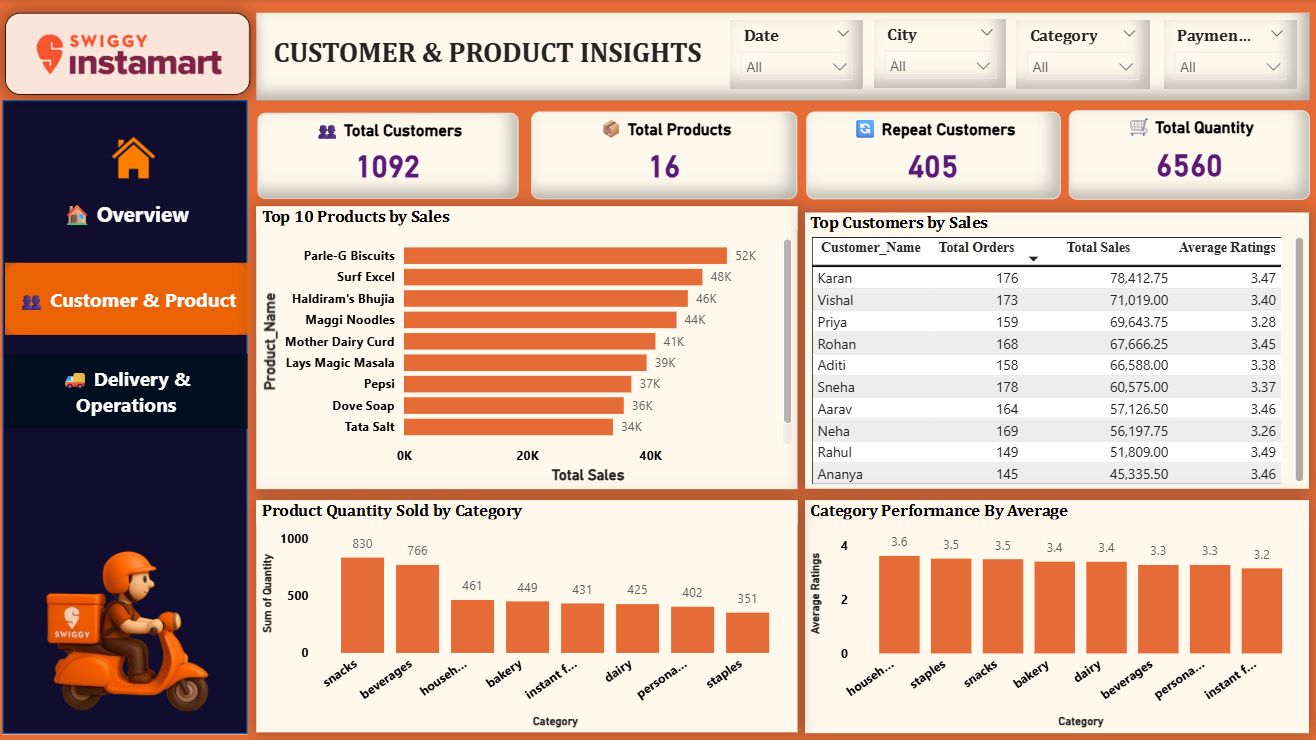

The page's visual inventory and layout, read from the dashboard file:
{"tool":"powerbi","page":{"name":"CUSTOMER & PRODUCT","canvas":[1280,720],"ordinal":2},"visuals":[{"type":"card","title":"👥 Total Customers","fields":{"Values":["Table.Total Customers"]},"box":[253.4,109.8,202.7,83.2],"z":0},{"type":"textbox","box":[253.2,12.7,1016.6,78.9],"z":1000},{"type":"shape","box":[9.4,97.5,236.9,611.9],"z":2000},{"type":"image","box":[101.5,130.8,64.8,45.2],"z":3000},{"type":"image","box":[0,473.1,260.6,246.6],"z":4000},{"type":"card","title":"🔄 Repeat Customers","fields":{"Values":["Table.Repeat Customers"]},"box":[670.8,108.6,193,84.5],"z":5000},{"type":"card","title":"📦 Total Products","fields":{"Values":["Table.Total Products"]},"box":[462.1,108.6,202.7,84.5],"z":6000},{"type":"card","title":"🛒 Total Quantity","fields":{"Values":["Table.Total Quantity"]},"box":[873.5,107.4,185.8,85.7],"z":7000},{"type":"actionButton","box":[9.8,183.4,236,51.4],"z":13000},{"type":"actionButton","box":[9.7,254.6,236.5,70],"z":14000},{"type":"actionButton","box":[9.8,342.4,236,72.1],"z":15000},{"type":"image","box":[10.1,13,236.6,79.4],"z":16000},{"type":"barChart","title":"Top 10 Products by Sales","fields":{"Category":["swiggy_instamartdb swiggy_instamart_final.Product_Name"],"Y":["Table.Total Sales"]},"box":[670.8,409,598.4,301.6],"z":17000},{"type":"card","title":"💰 Avg Order Value","fields":{"Values":["Table.Average Order Value"]},"box":[1070.1,106.2,199.1,86.9],"z":18000},{"type":"barChart","title":"Top 5 Cities by Customer Orders","fields":{"Category":["swiggy_instamartdb swiggy_instamart_final.City"],"Y":["Table.order"]},"box":[596,200.3,355.9,199.1],"z":19000},{"type":"tableEx","title":"Top Customers by Sales","fields":{"Values":["swiggy_instamartdb swiggy_instamart_final.Customer_Name","Table.Total Orders","Table.Total Sales","Table.Average Ratings"]},"box":[247.3,409,417.4,301.6],"z":20000},{"type":"columnChart","title":"Category Performance","fields":{"Category":["swiggy_instamartdb swiggy_instamart_final.Category"],"Y":["Sum(swiggy_instamartdb swiggy_instamart_final.Quantity)"]},"box":[252.5,199.8,334.2,198.5],"z":21000},{"type":"donutChart","title":"Payment Mode Preference","fields":{"Category":["swiggy_instamartdb swiggy_instamart_final.Payment_Mode"],"Y":["Table.order"]},"box":[959.1,200.3,310.1,199.1],"z":22000},{"type":"slicer","fields":{"Values":["DateTable.Date"]},"box":[717.1,17.3,128.4,66.4],"z":22001},{"type":"slicer","fields":{"Values":["swiggy_instamartdb swiggy_instamart_final.City"]},"box":[852.5,19.1,126,66.2],"z":22002},{"type":"slicer","fields":{"Values":["swiggy_instamartdb swiggy_instamart_final.Category"]},"box":[987.4,19.1,128.5,66.2],"z":22003},{"type":"slicer","fields":{"Values":["swiggy_instamartdb swiggy_instamart_final.Payment_Mode"]},"box":[1123.5,19.1,128.5,66.2],"z":22004}]}

Visuals, with their boxes in screenshot pixels (x1, y1, x2, y2), scaled from the page's 1280x720 canvas onto the 1316x740 screenshot:
"👥 Total Customers" card: [261,113,469,198]
textbox: [260,13,1306,94]
shape: [10,100,253,729]
image: [104,134,171,181]
image: [0,486,268,739]
"🔄 Repeat Customers" card: [690,112,888,198]
"📦 Total Products" card: [475,112,683,198]
"🛒 Total Quantity" card: [898,110,1089,198]
actionButton: [10,188,253,241]
actionButton: [10,262,253,334]
actionButton: [10,352,253,426]
image: [10,13,254,95]
"Top 10 Products by Sales" barChart: [690,420,1305,730]
"💰 Avg Order Value" card: [1100,109,1305,198]
"Top 5 Cities by Customer Orders" barChart: [613,206,979,410]
"Top Customers by Sales" tableEx: [254,420,683,730]
"Category Performance" columnChart: [260,205,603,409]
"Payment Mode Preference" donutChart: [986,206,1305,410]
slicer - DateTable.Date: [737,18,869,86]
slicer - swiggy_instamartdb swiggy_instamart_final.City: [876,20,1006,88]
slicer - swiggy_instamartdb swiggy_instamart_final.Category: [1015,20,1147,88]
slicer - swiggy_instamartdb swiggy_instamart_final.Payment_Mode: [1155,20,1287,88]
